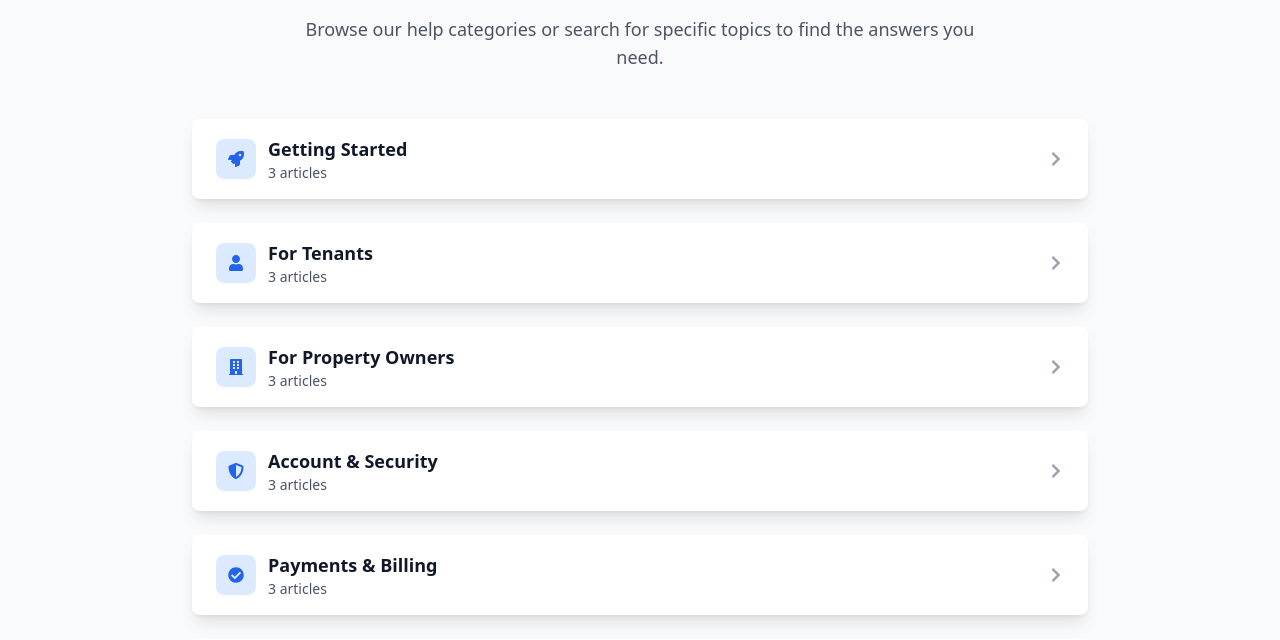
Test: HelpPage › displays owner-specific help questions
(page scrolled)
Click the heading "For Property Owners".
click(361, 357)  # box [268,343,454,371]
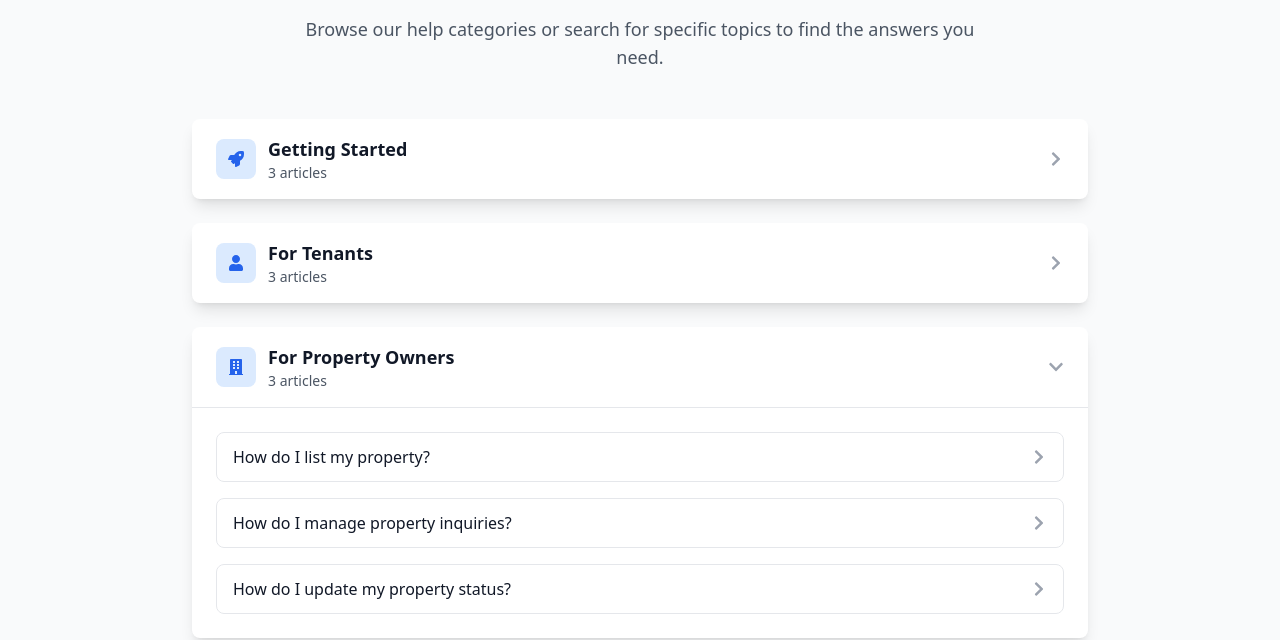
Result: the text "How do I list my property?" is shown at [233,445,430,469]
Result: the text "How do I manage property inquiries?" is shown at [233,511,512,535]
Result: the text "How do I update my property status?" is shown at [233,577,511,601]
